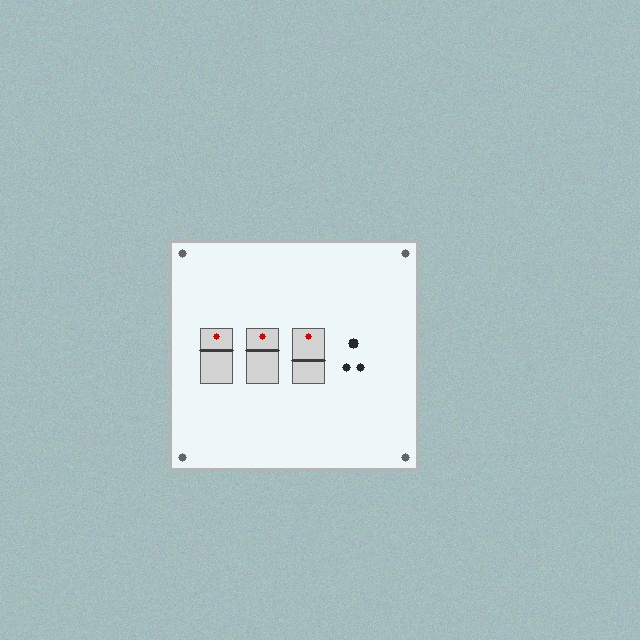switchboard: (170, 241, 417, 469)
